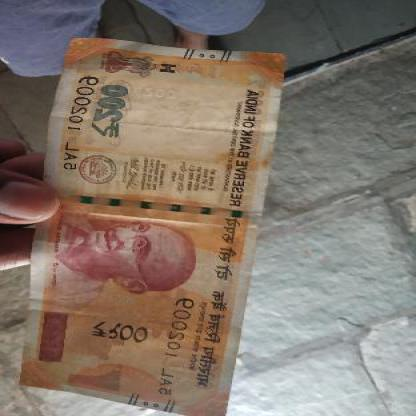New200Front: (34, 53, 270, 410)
